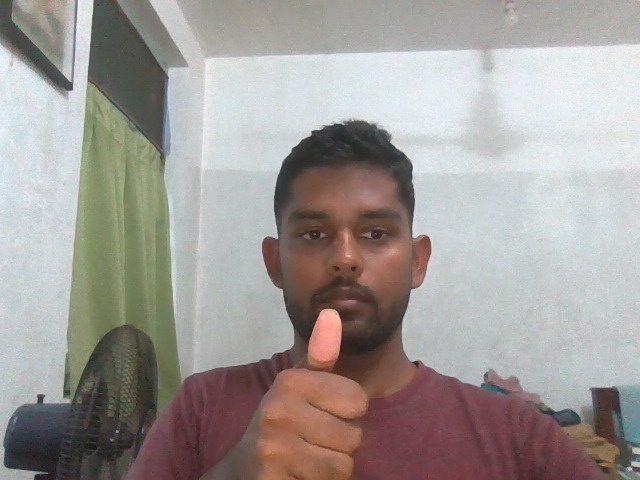good.: (236, 305, 406, 479)
